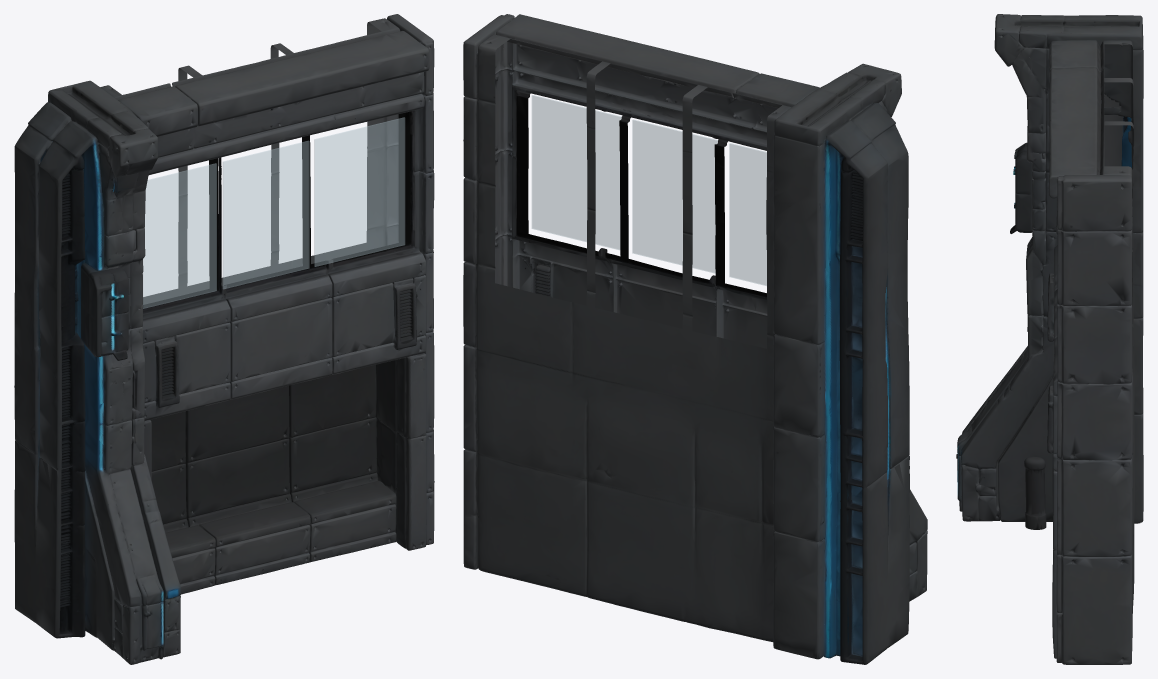
The model's file is M01_window_fix.glb.
3 views of the same model, side by side, from view 1: azimuth 30°, elevation 25°; view 2: azimuth 150°, elevation 25°; view 3: azimuth 270°, elevation 25° (orthographic). The views are drawn at different scales.
Visible parts, largest first — view 1: M01_M01_DIRECT_FROM_ALLOWED_RAW, M01_Window_glazing_local_patch_2, M01_Window_glazing_local_patch_1, M01_Window_glazing_local_patch_0; view 2: M01_M01_DIRECT_FROM_ALLOWED_RAW, M01_Window_glazing_local_patch_2, M01_Window_glazing_local_patch_1, M01_Window_glazing_local_patch_0; view 3: M01_M01_DIRECT_FROM_ALLOWED_RAW.
Boxes of the visible parts, x1=… form: M01_M01_DIRECT_FROM_ALLOWED_RAW: x1=14, y1=14, x2=434, y2=664; M01_Window_glazing_local_patch_2: x1=314, y1=117, x2=404, y2=266; M01_Window_glazing_local_patch_1: x1=223, y1=141, x2=309, y2=288; M01_Window_glazing_local_patch_0: x1=143, y1=163, x2=216, y2=308; M01_M01_DIRECT_FROM_ALLOWED_RAW: x1=463, y1=14, x2=927, y2=664; M01_Window_glazing_local_patch_2: x1=532, y1=95, x2=621, y2=249; M01_Window_glazing_local_patch_1: x1=632, y1=119, x2=717, y2=273; M01_Window_glazing_local_patch_0: x1=729, y1=143, x2=766, y2=285; M01_M01_DIRECT_FROM_ALLOWED_RAW: x1=956, y1=14, x2=1143, y2=664.
Size of the model in its own units: 7.17 by 9 by 3.13.
Materials: 3 (1 with a texture image).
